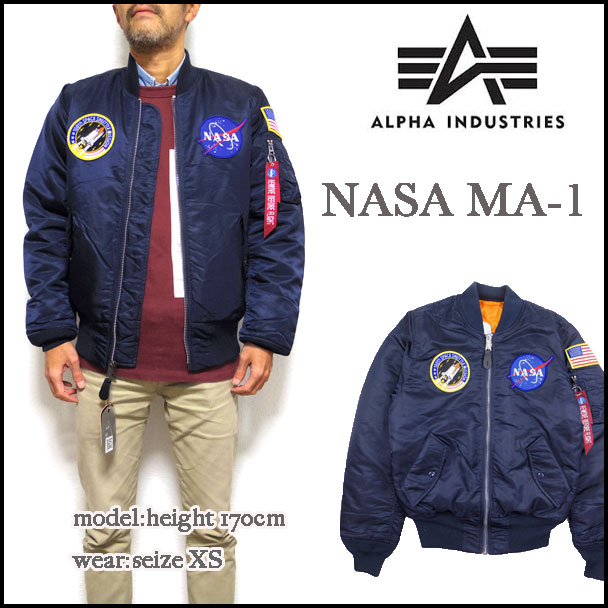NASA: (196, 113, 246, 160), (505, 353, 554, 390)
